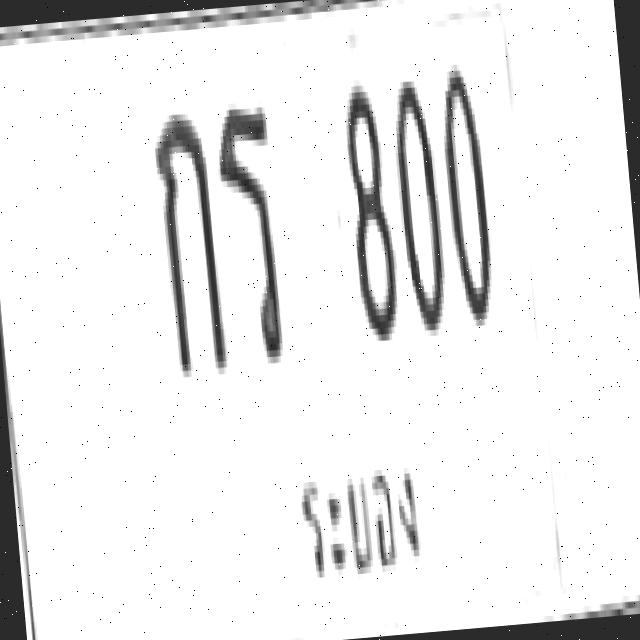0: (435, 56, 497, 328), (387, 73, 448, 331)
10GorGai: (148, 102, 226, 374)
44RorRuea: (212, 97, 288, 363)
8: (339, 74, 400, 339)
Rayong: (287, 435, 424, 586)
